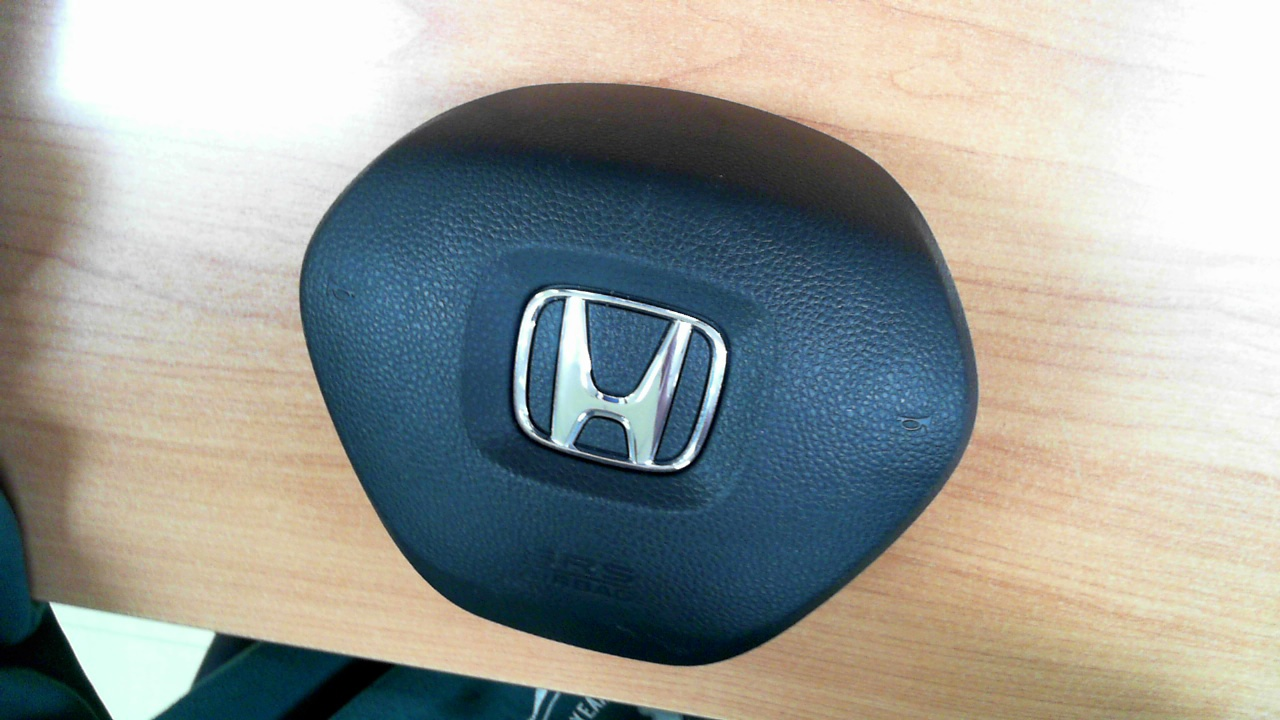Airbag: (307, 87, 977, 661)
Honda: (512, 288, 728, 473)
